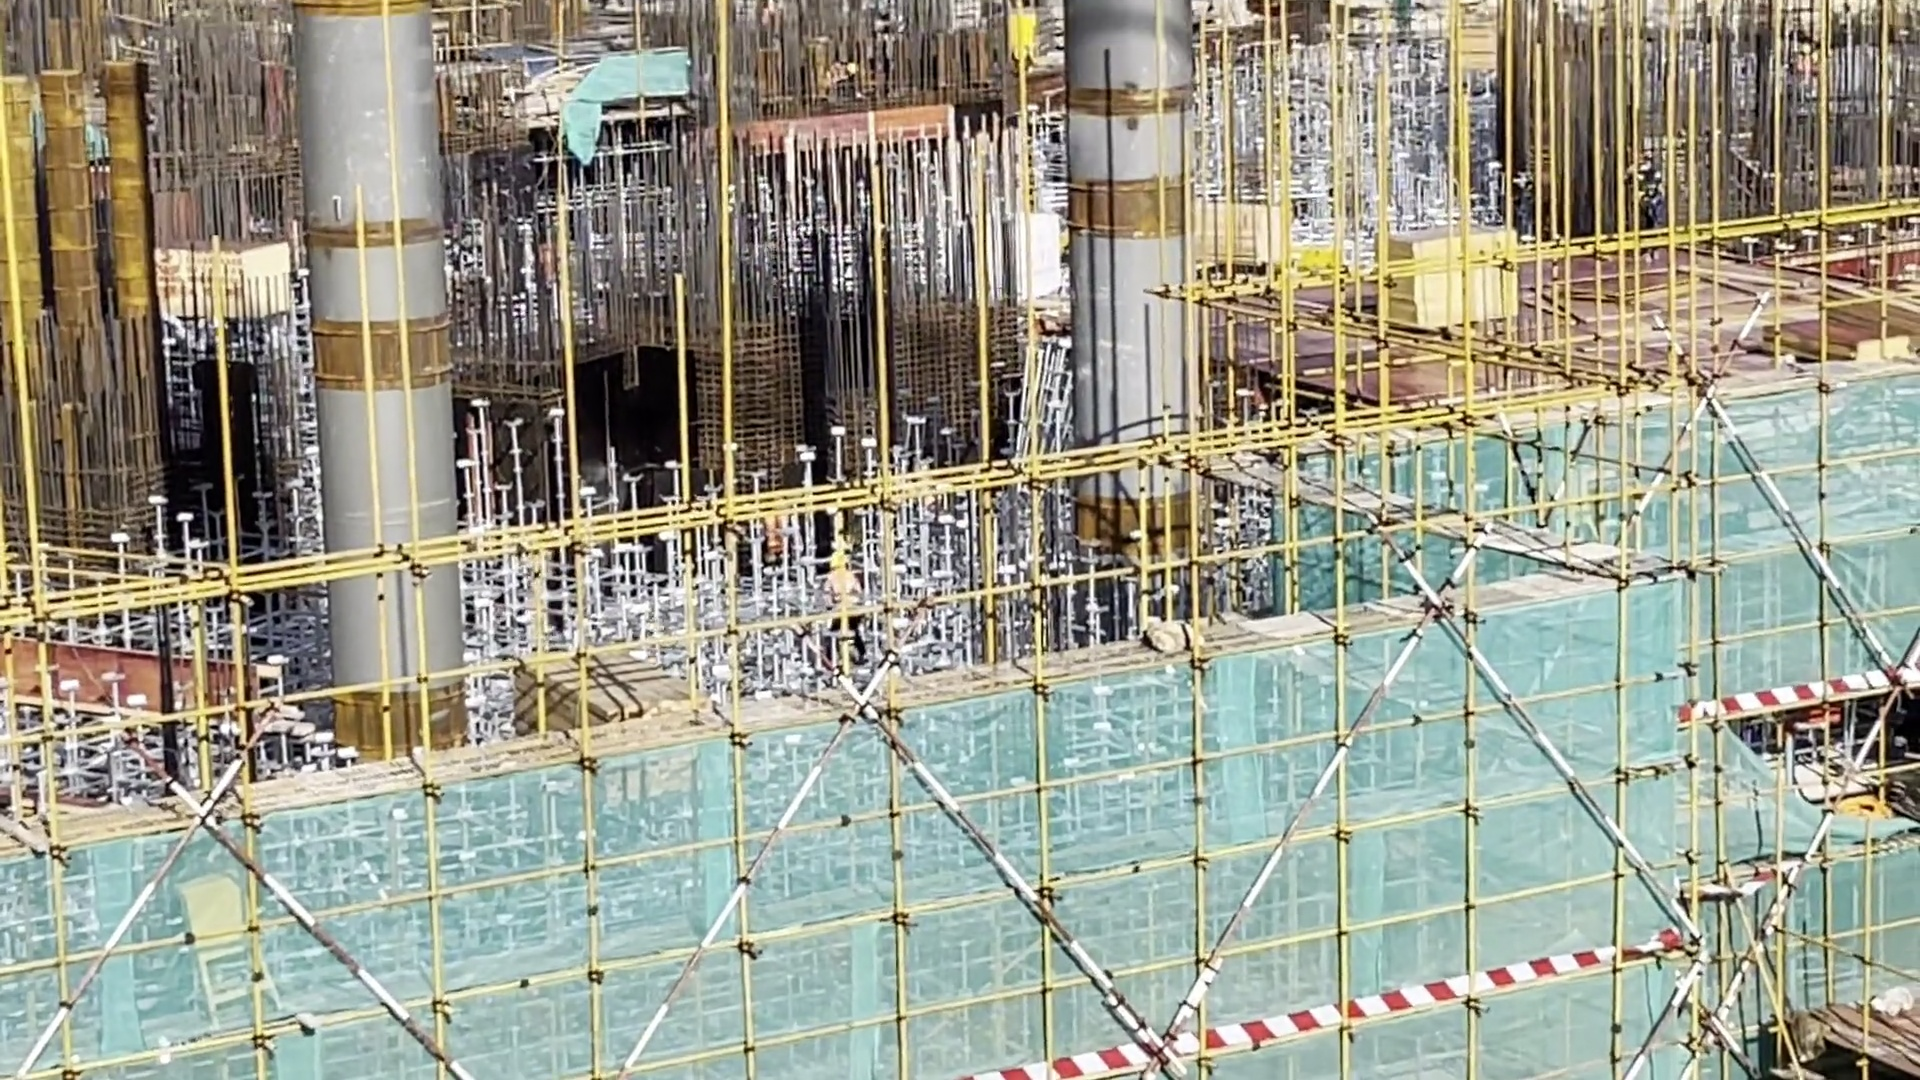ebox: (165, 876, 290, 1018)
